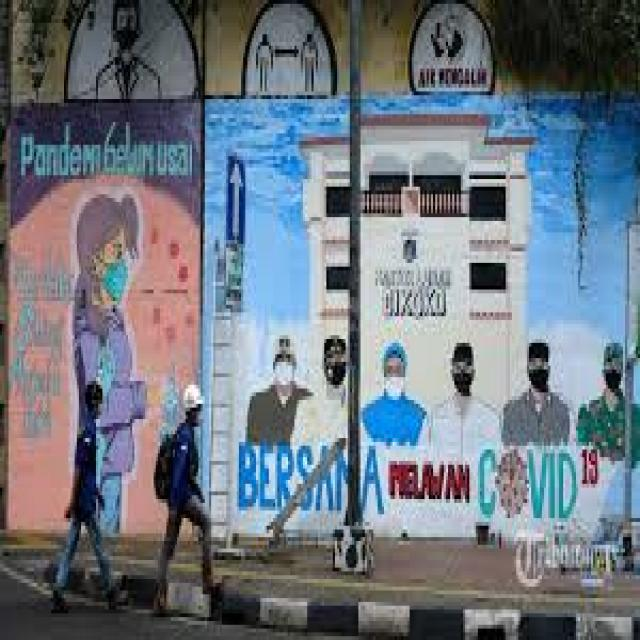-: (205, 98, 640, 536), (13, 105, 200, 538), (65, 0, 202, 100), (243, 0, 332, 91), (411, 0, 492, 92)
